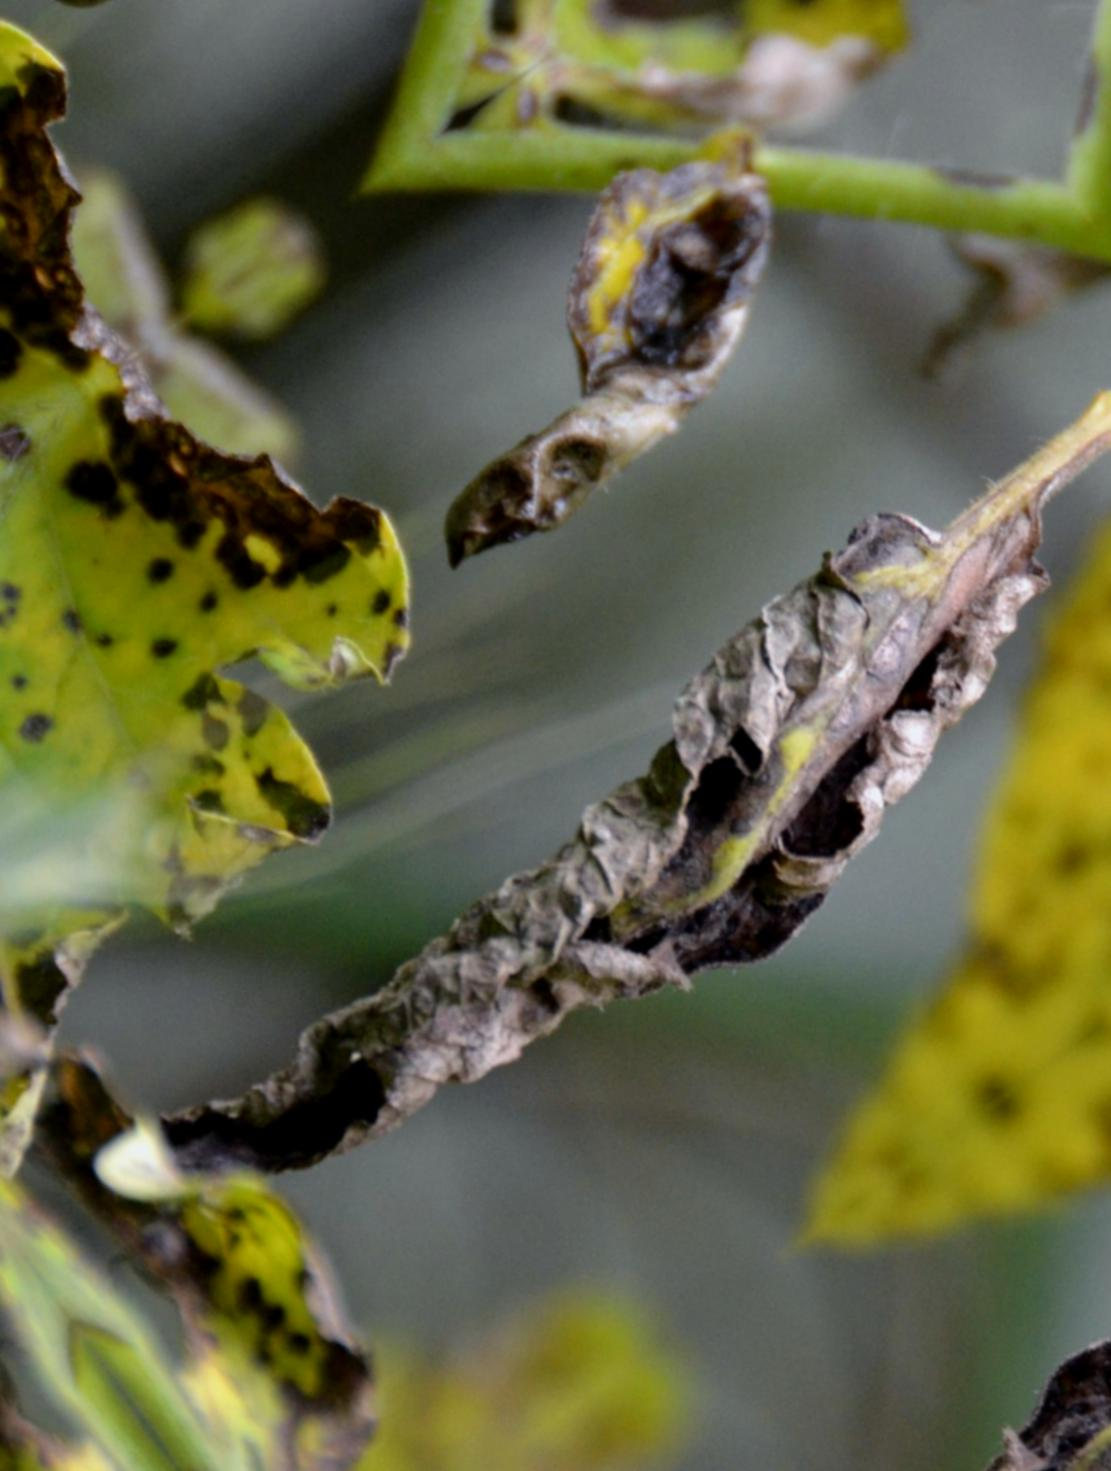Tomato Septoria leaf spot: (306, 411, 1111, 1421), (0, 297, 595, 1245)
